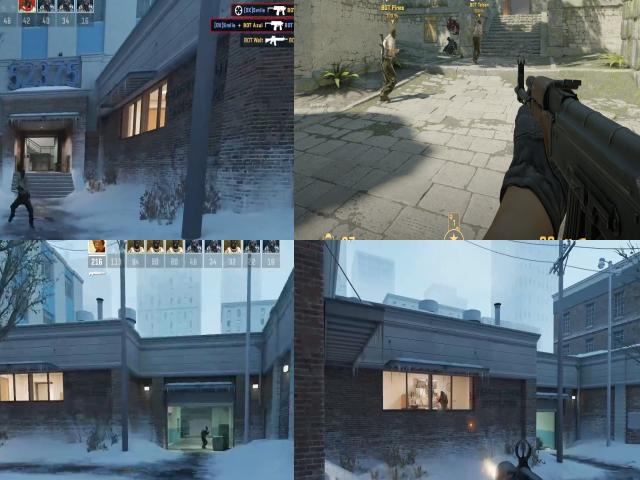CT: (200, 423, 210, 446), (438, 389, 448, 409), (440, 390, 446, 398)
CT-Head: (202, 424, 208, 433)
Dead: (441, 32, 460, 59)
T: (378, 27, 402, 102), (13, 168, 34, 201), (472, 15, 485, 68)
T-Head: (18, 168, 28, 182), (388, 28, 398, 41), (474, 18, 484, 26)
